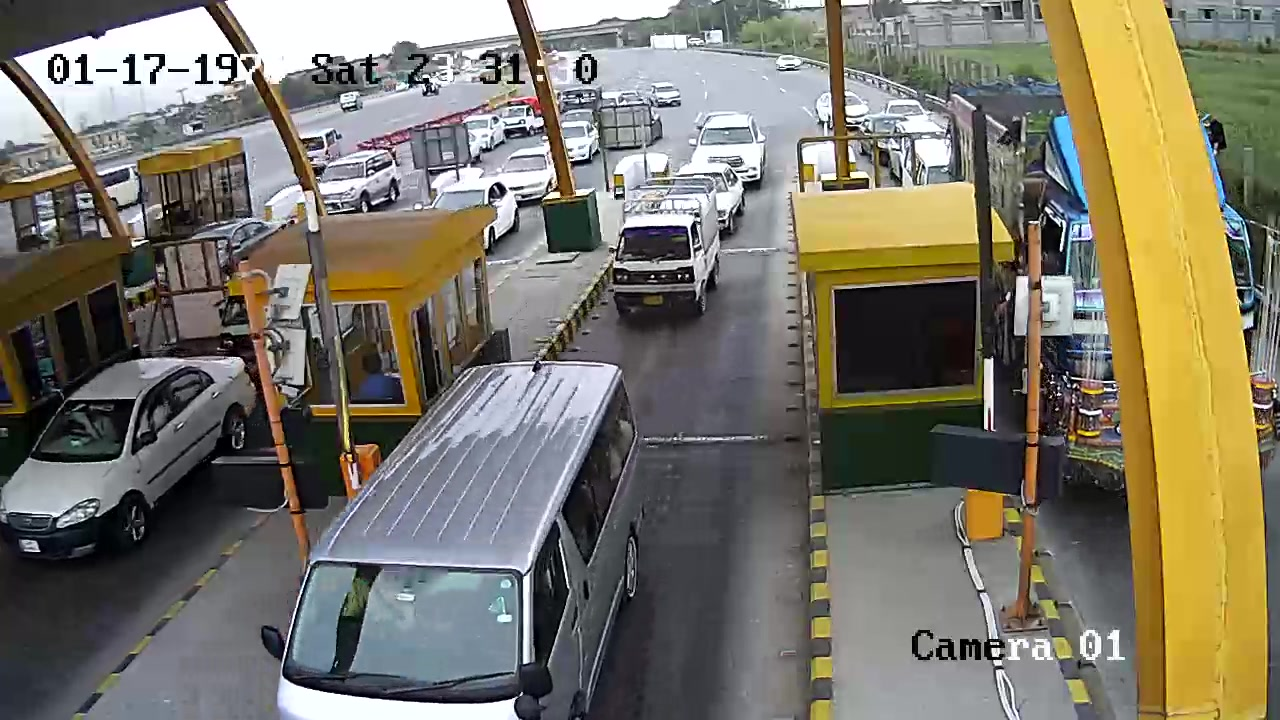F1: (612, 173, 724, 330)
